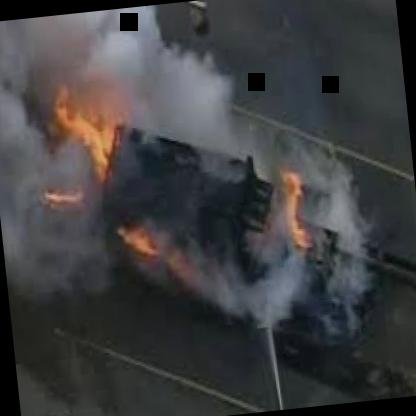fire: (184, 180, 333, 312), (58, 88, 116, 176)
